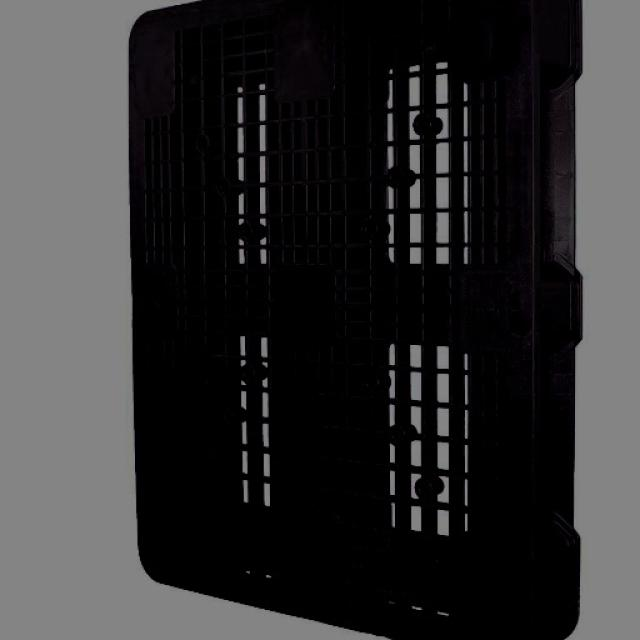non-igps: (122, 0, 594, 640)
